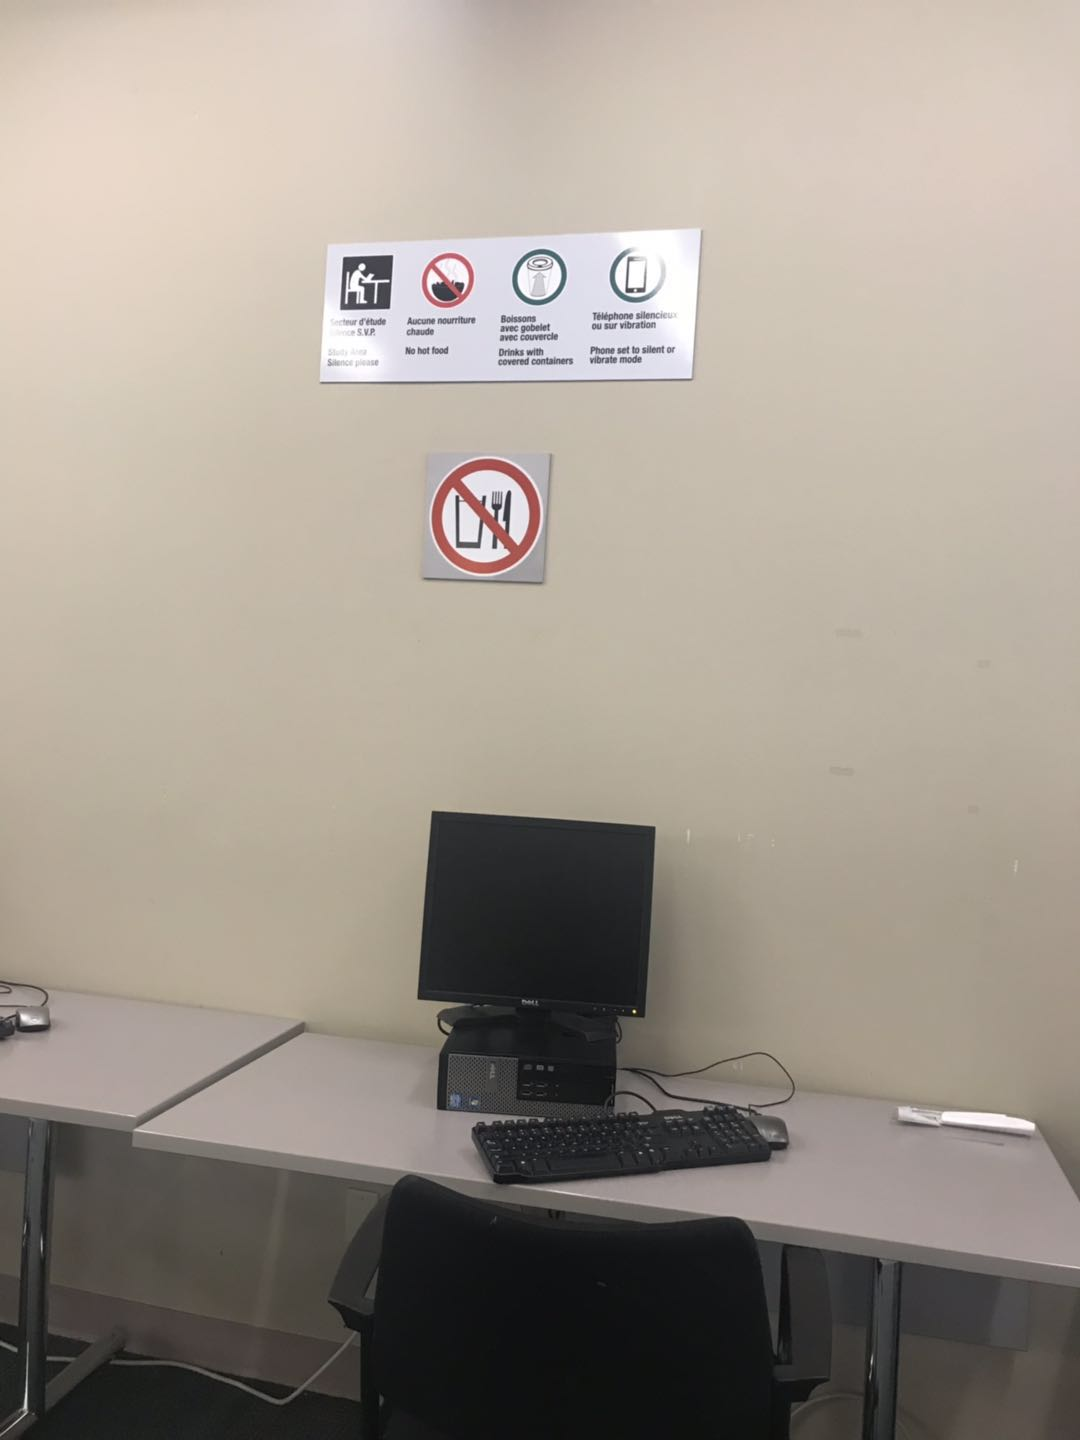sign: (315, 227, 704, 383), (423, 454, 554, 583)
tvmonitor: (417, 810, 659, 1113)
